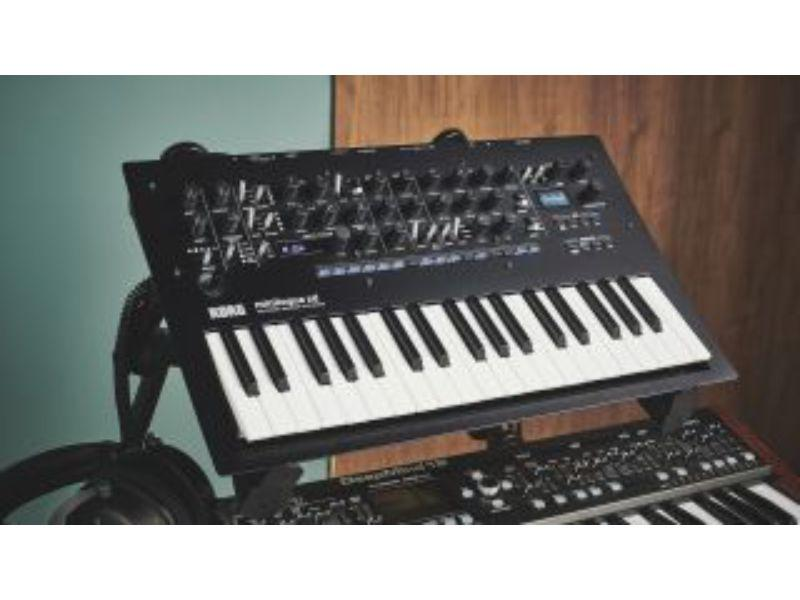synthesizer: (109, 137, 749, 440)
